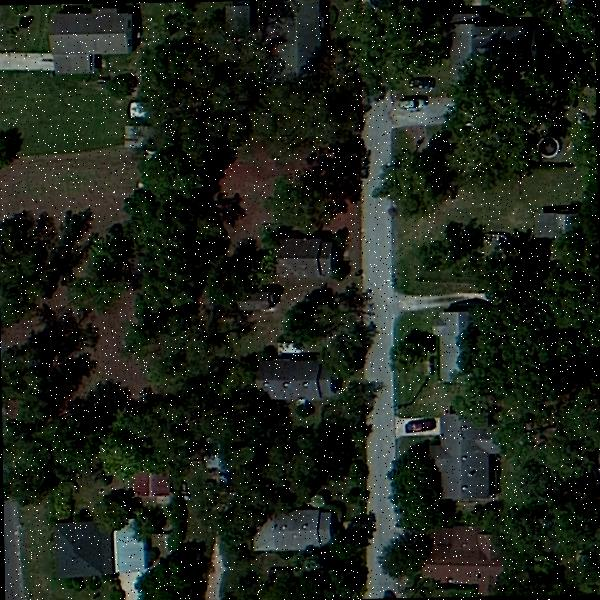Buildings: (51, 14, 127, 72), (59, 530, 132, 580), (442, 422, 483, 493), (257, 510, 329, 550), (429, 530, 484, 582), (261, 365, 326, 398), (272, 240, 332, 275), (435, 314, 467, 376)
